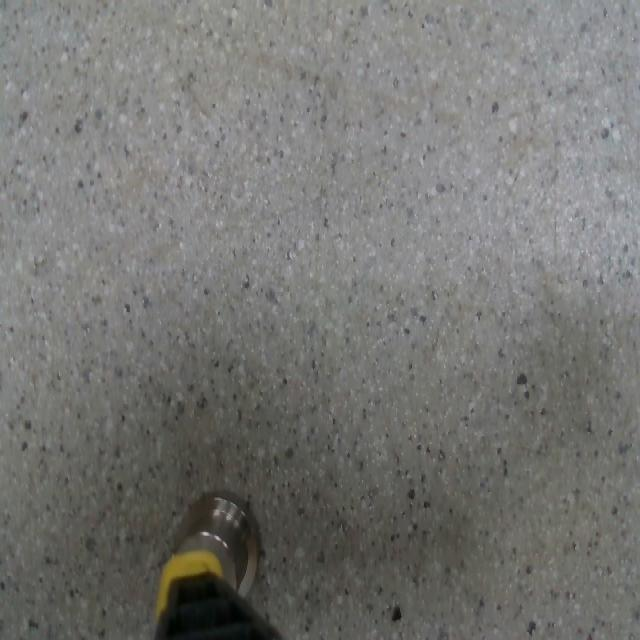sensor: (167, 490, 261, 600)
